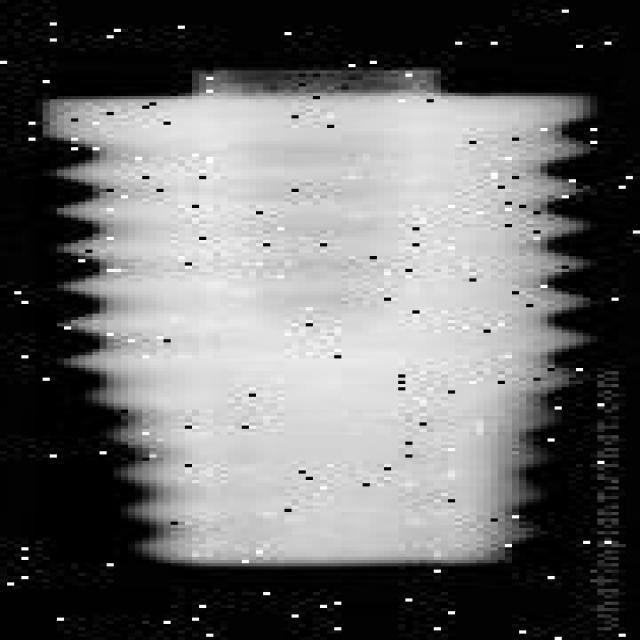Retained root: (36, 74, 597, 570)
